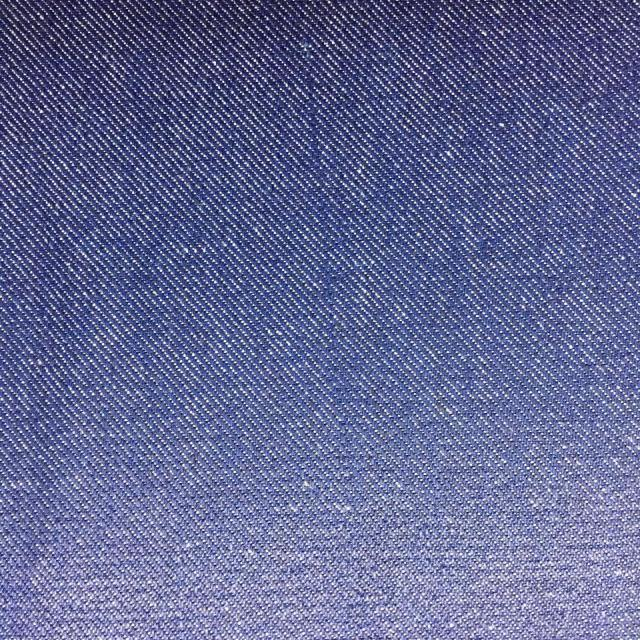Line: (302, 55, 350, 492)
